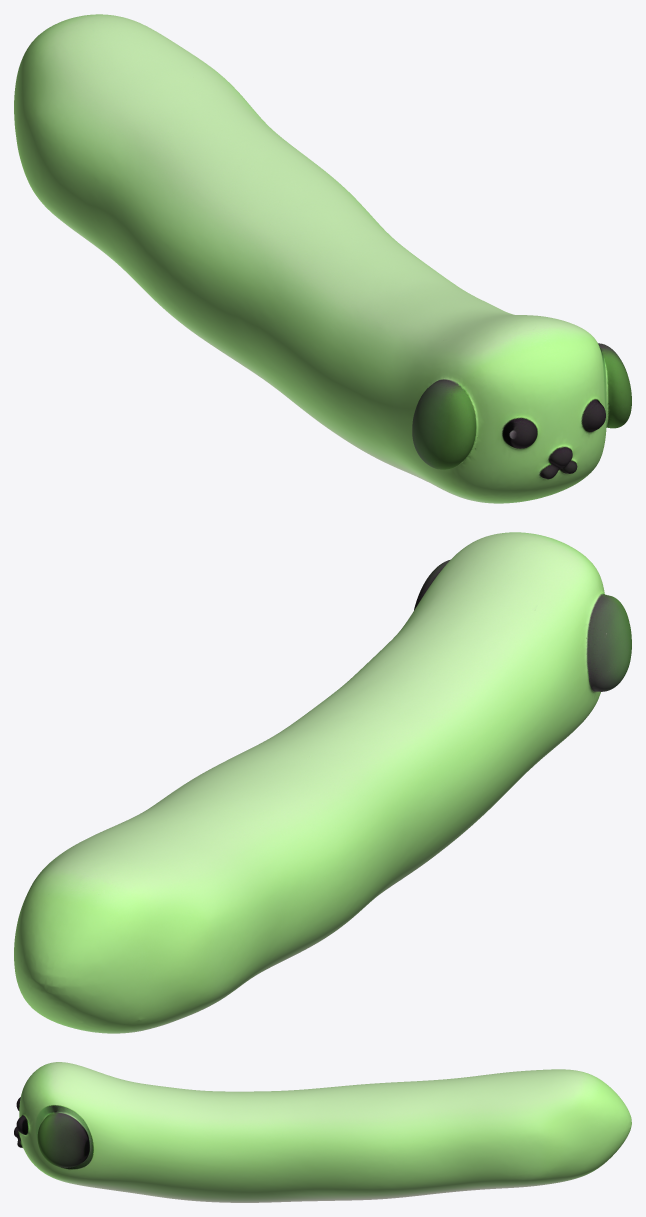
Rendered from マメシバ手書き3D.glb.
3 renders of one model, top to bottom at view 1: azimuth 30°, elevation 25°; view 2: azimuth 150°, elevation 25°; view 3: azimuth 270°, elevation 25°, orthographic. The views are drawn at different scales.
Size of the model in its own units: 0.4251 by 0.4351 by 1.9.
1 material, 1 textured.
